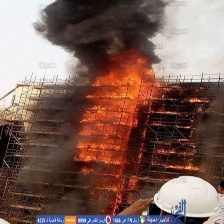fire: (71, 58, 155, 172), (157, 146, 207, 174), (179, 93, 209, 108)
smoke: (32, 1, 164, 67)
